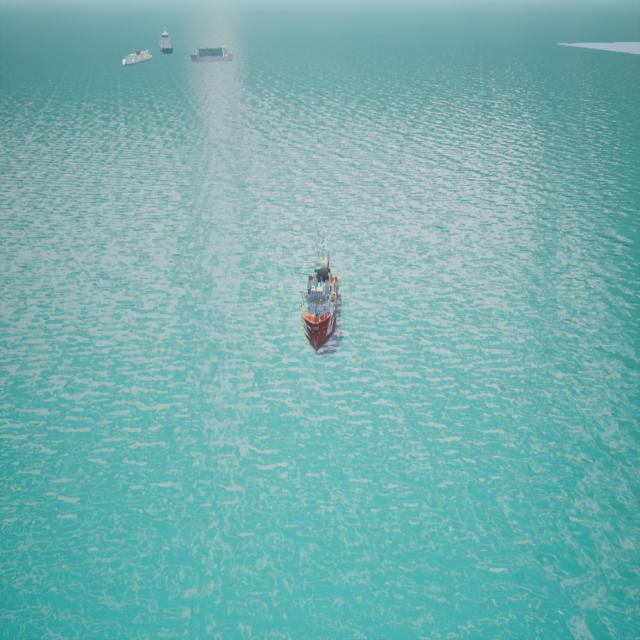tug boat: (303, 262, 341, 357)
